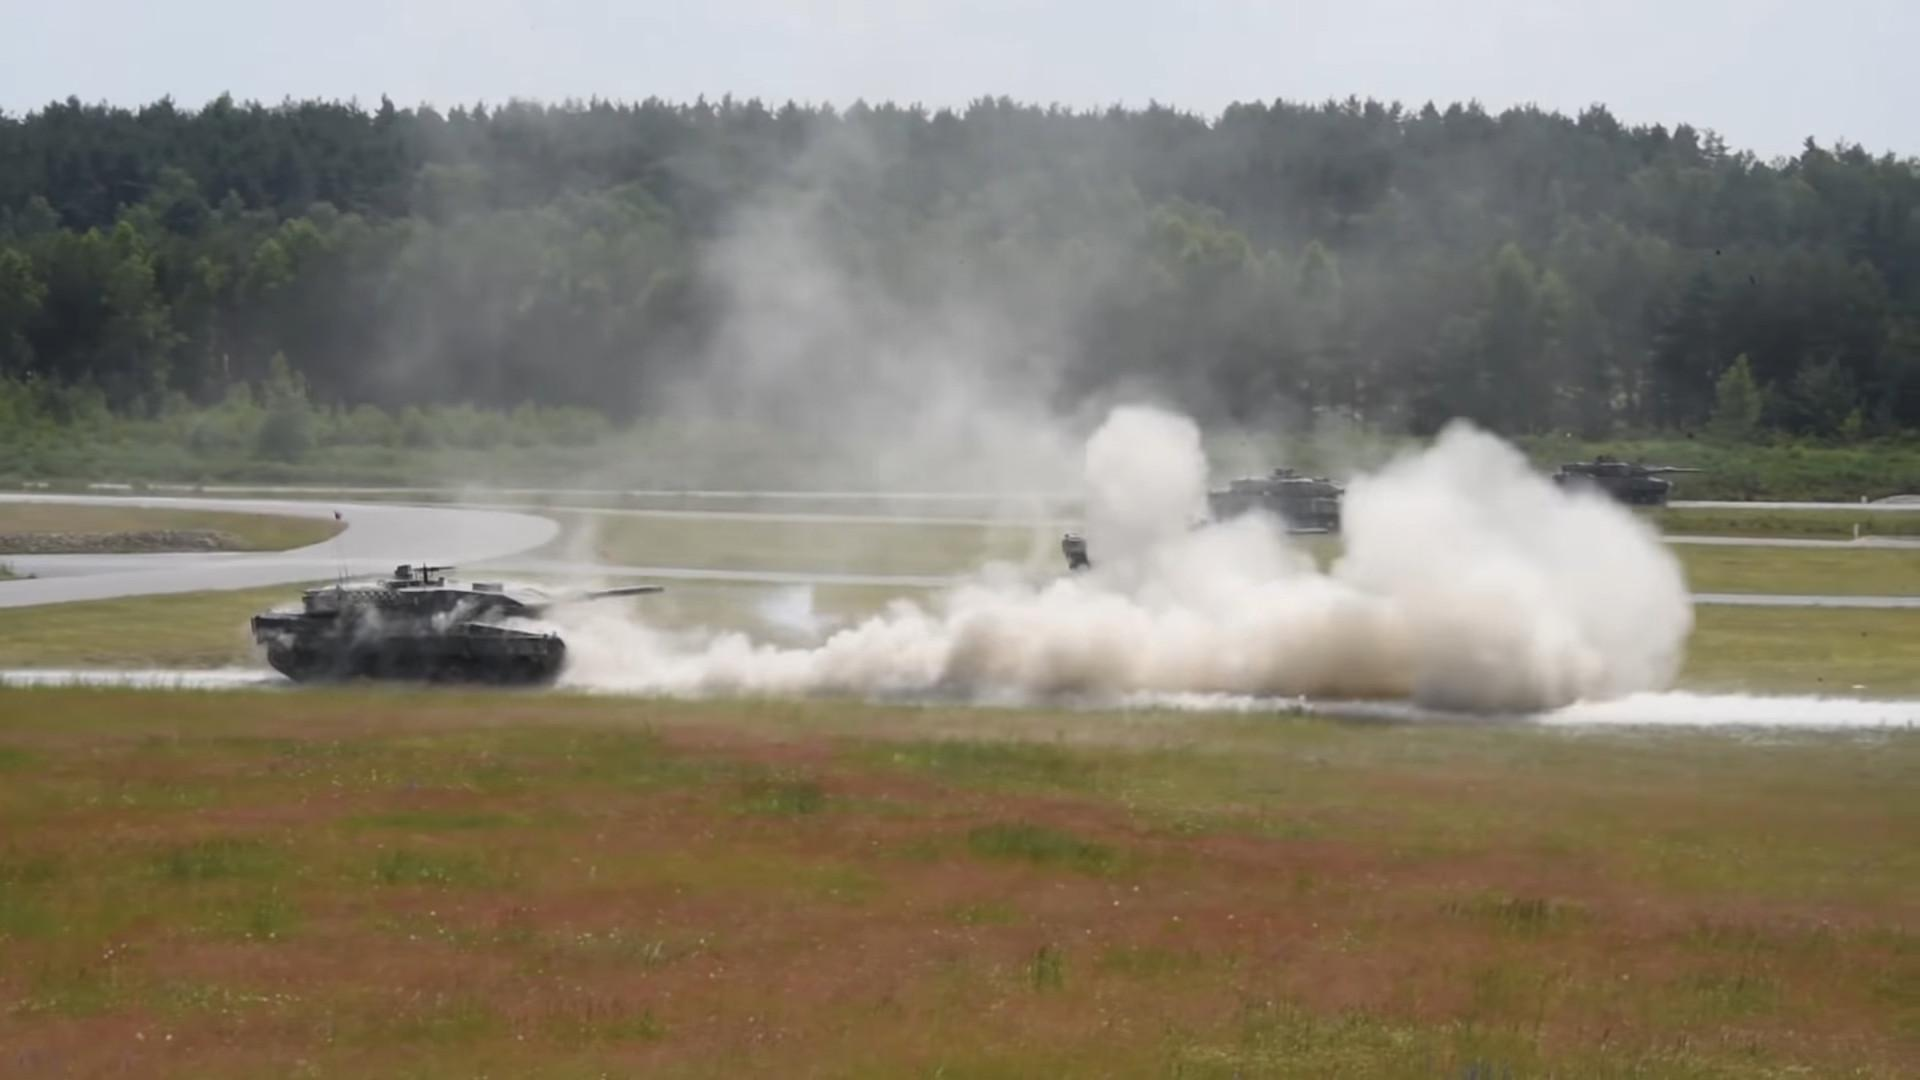tank: (249, 566, 665, 687), (1211, 473, 1345, 531), (1553, 463, 1702, 505)
